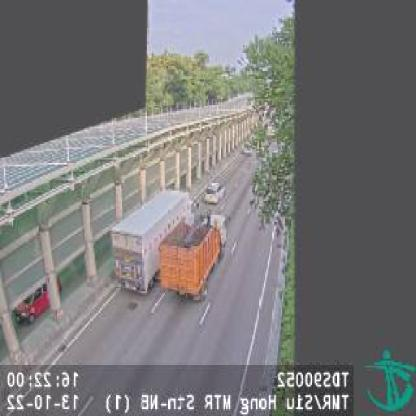Car: (11, 272, 62, 328), (204, 181, 224, 204)
Truck: (110, 191, 199, 292), (159, 213, 231, 303)
